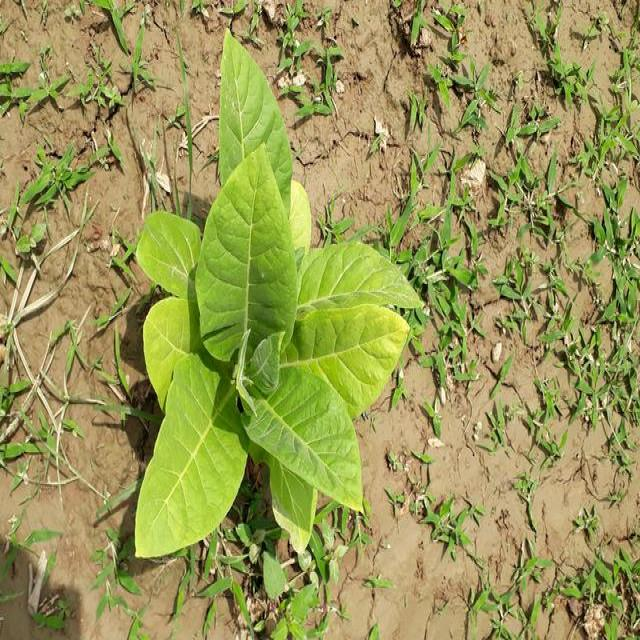crop: (131, 47, 412, 556)
